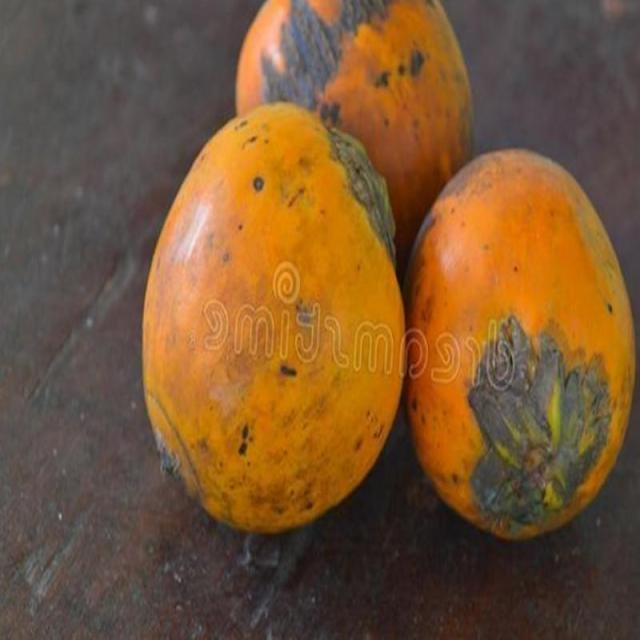good: (142, 102, 405, 538), (402, 149, 638, 545), (234, 0, 475, 284)
